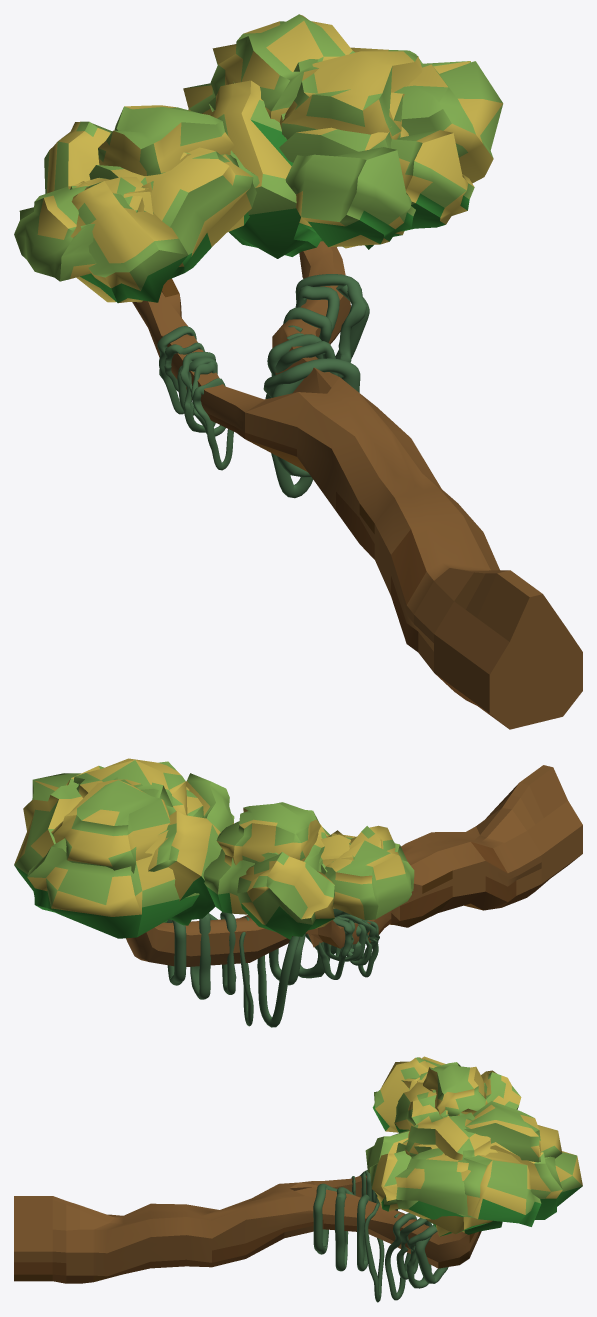
The model's file is vine.fbx.
The picture shows the model from 3 angles, top to bottom: view 1: azimuth 30°, elevation 25°; view 2: azimuth 150°, elevation 25°; view 3: azimuth 270°, elevation 25°; orthographic projection. The views are drawn at different scales.
Parts seen in each view (by area): view 1: pCube6, pasted__polySurface5, pasted__polySurface6, pasted__polySurface20, pasted__polySurface7, pasted__polySurface16, pasted__polySurface21, pasted__polySurface2, pasted__pCylinder3 (×2), pasted__polySurface14, pasted__polySurface3, pasted__polySurface15 (+6 smaller); view 2: pCube6, pasted__polySurface18, pasted__polySurface21, pasted__polySurface13, pasted__polySurface15, pasted__polySurface14, pasted__polySurface6, pasted__pCylinder3 (×2), pasted__pasted__pCylinder3, pasted__polySurface9, pasted__polySurface7, pasted__polySurface11 (+6 smaller); view 3: pCube6, pasted__polySurface9, pasted__polySurface2, pasted__polySurface21, pasted__pCylinder3, pasted__pasted__pCylinder3, pasted__polySurface18, pasted__polySurface7, pasted__polySurface14, pasted__polySurface20, pasted__polySurface3, pasted__polySurface16 (+4 smaller).
Boxes of the visible parts, x1,y1,x2,y2 form: pCube6: (132,241,582,729); pasted__polySurface5: (285,147,415,248); pasted__polySurface6: (209,80,321,258); pasted__polySurface20: (70,181,188,303); pasted__polySurface7: (281,51,422,139); pasted__polySurface16: (143,147,256,279); pasted__polySurface21: (210,14,354,122); pasted__polySurface2: (394,61,503,183); pasted__pCylinder3 (×2): (177,333,360,498); pasted__polySurface14: (98,105,234,175); pasted__polySurface3: (391,130,474,231); pasted__polySurface15: (14,181,96,281); pCube6: (126,765,582,966); pasted__polySurface18: (27,830,199,938); pasted__polySurface21: (51,777,175,873); pasted__polySurface13: (237,852,334,939); pasted__polySurface15: (325,840,414,920); pasted__polySurface14: (216,802,320,865); pasted__polySurface6: (148,811,221,925); pasted__pCylinder3 (×2): (257,908,379,1027); pasted__pasted__pCylinder3: (165,912,253,1026); pasted__polySurface9: (14,781,82,896); pasted__polySurface7: (73,758,187,815); pasted__polySurface11: (203,832,326,914); pCube6: (14,1175,481,1283); pasted__polySurface9: (461,1150,541,1226); pasted__polySurface2: (395,1148,472,1219); pasted__polySurface21: (459,1101,562,1162); pasted__pCylinder3: (313,1183,384,1302); pasted__pasted__pCylinder3: (385,1213,448,1300); pasted__polySurface18: (490,1142,582,1219); pasted__polySurface7: (405,1112,497,1160); pasted__polySurface14: (423,1062,487,1116); pasted__polySurface20: (372,1057,429,1132); pasted__polySurface3: (369,1150,411,1211); pasted__polySurface16: (394,1082,448,1132).
Size of the model in its own units: 17.15 by 12.9 by 29.55.
